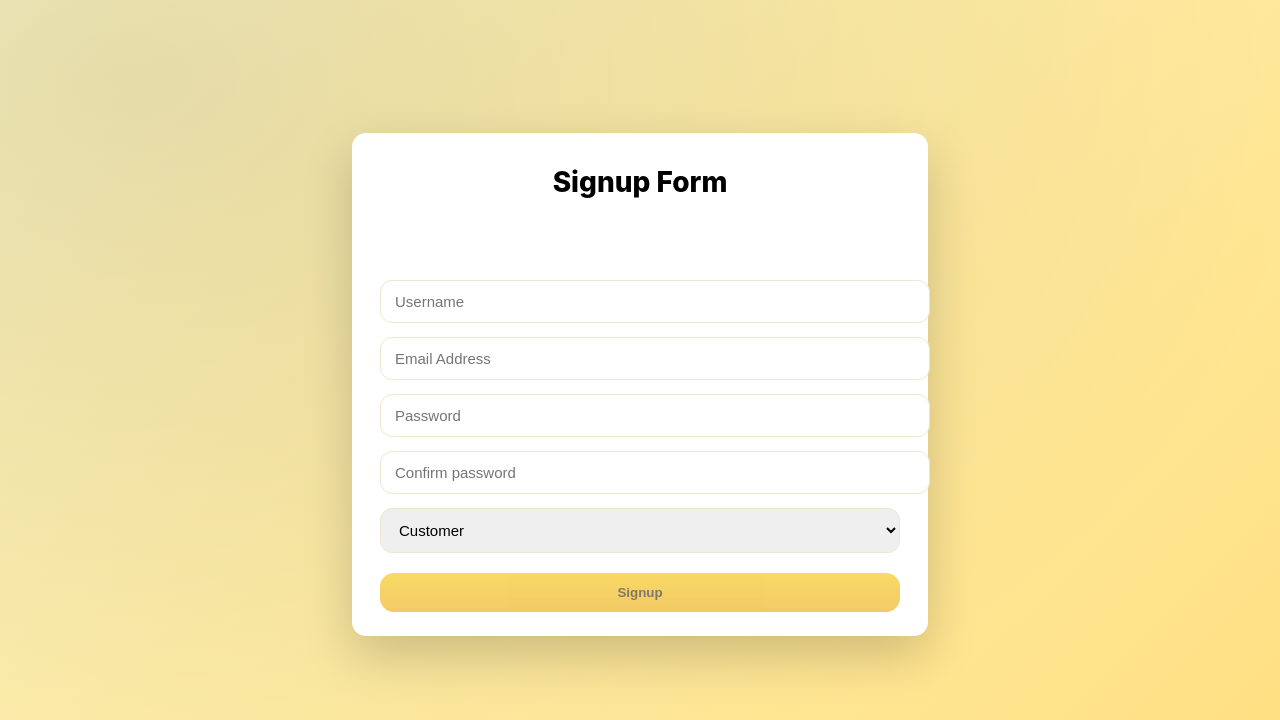
Test: Signup Component › Form Submission Tests › should handle signup error from API
The image size is (1280, 720).
In the field with placeholder "Username": (655, 301) x1=380 y1=280 x2=930 y2=322, type "existinguser"
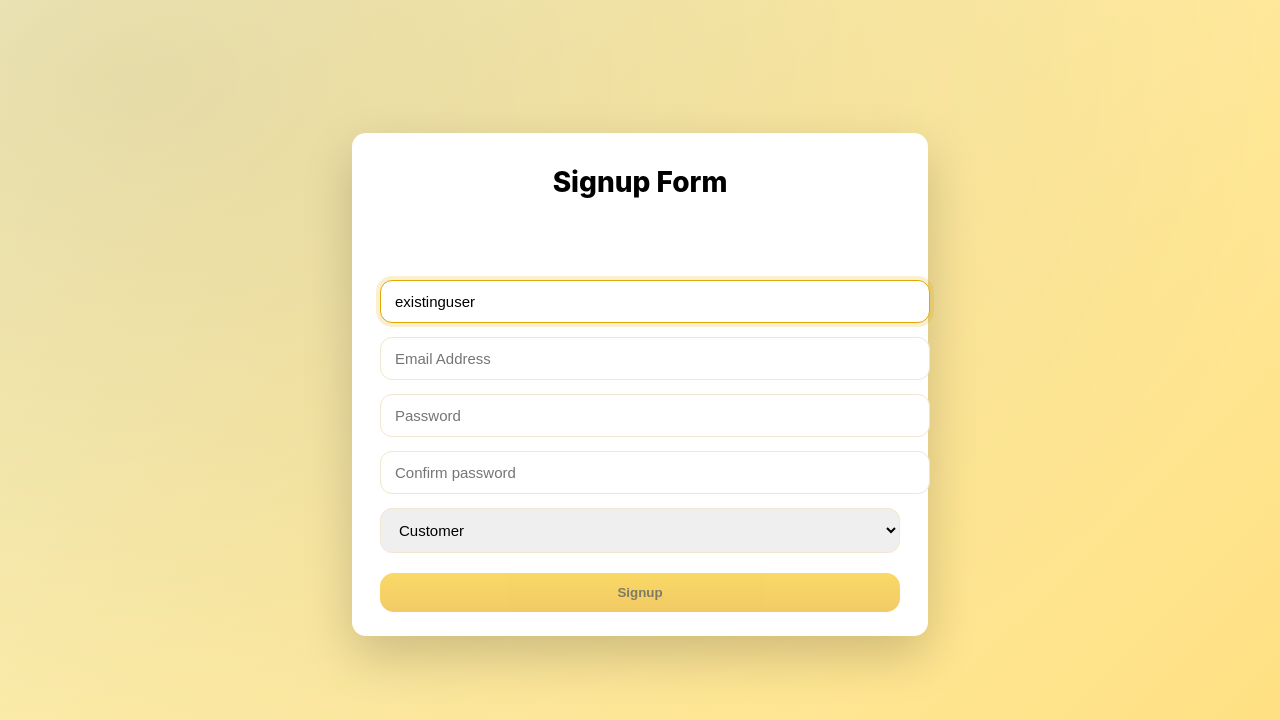
In the field with placeholder "Email Address": (655, 358) x1=380 y1=336 x2=930 y2=380, type "existing@example.com"
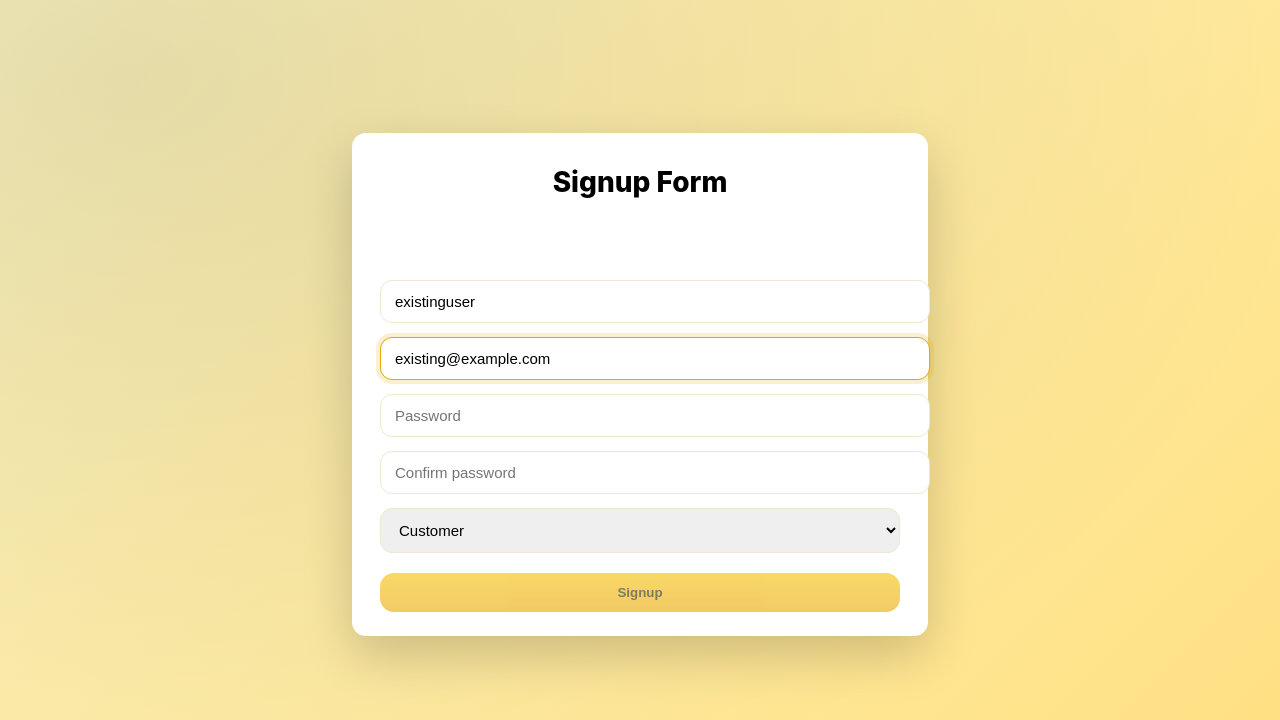
In the password field with placeholder "Password": (655, 415) x1=380 y1=394 x2=930 y2=436, type "password123"
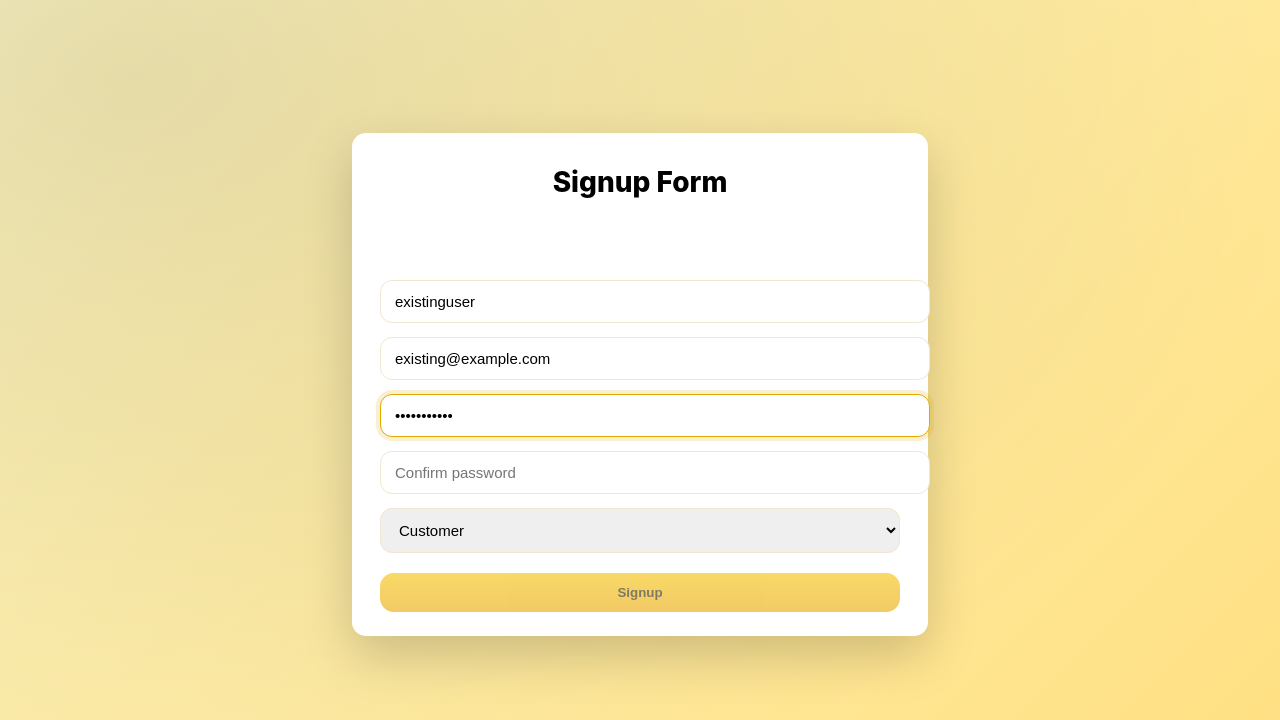
In the password field with placeholder "Confirm password": (655, 472) x1=380 y1=450 x2=930 y2=494, type "password123"
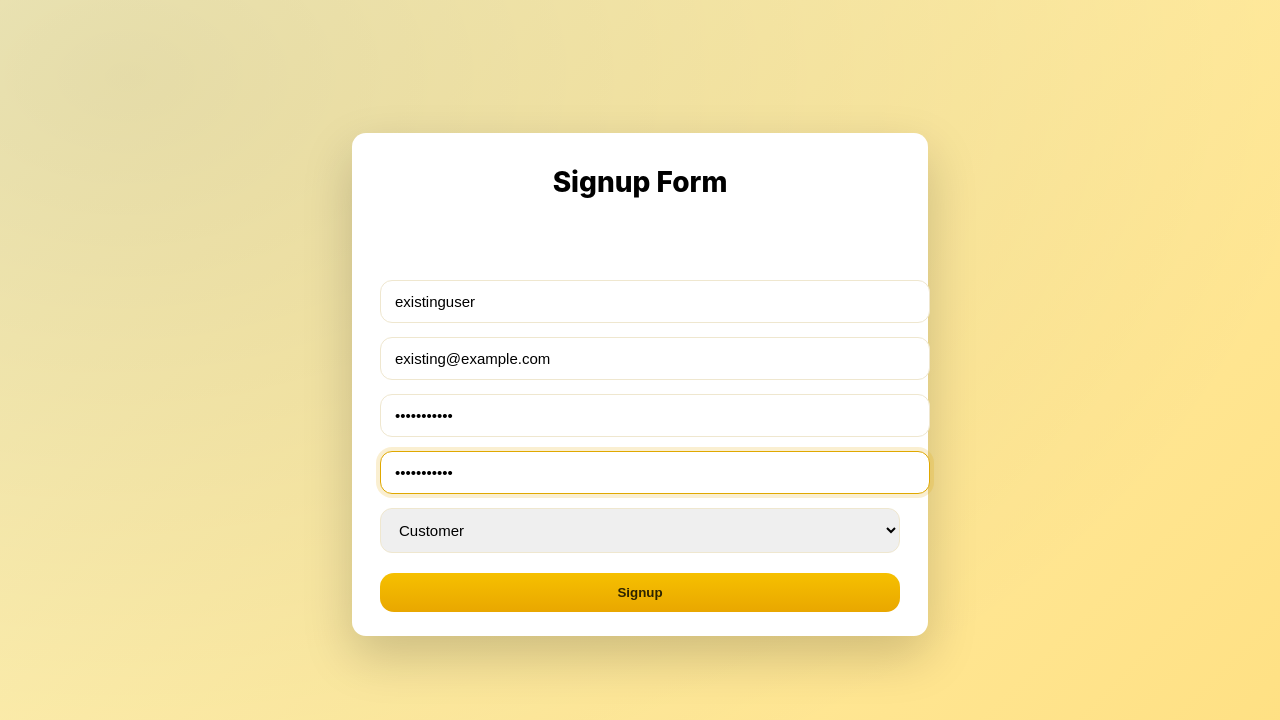
Click the button "Signup": click(640, 592) x1=380 y1=572 x2=900 y2=612
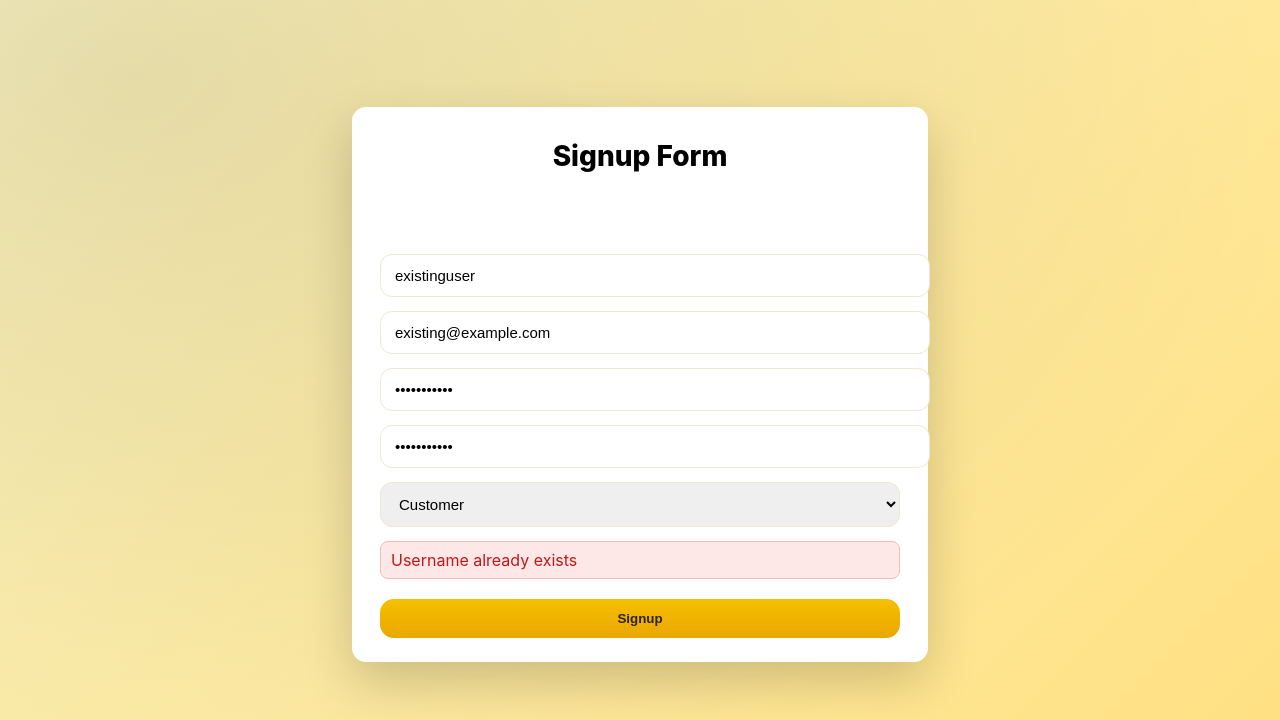
expect the message reads "Username already exists": met, box x1=391 y1=550 x2=577 y2=570
